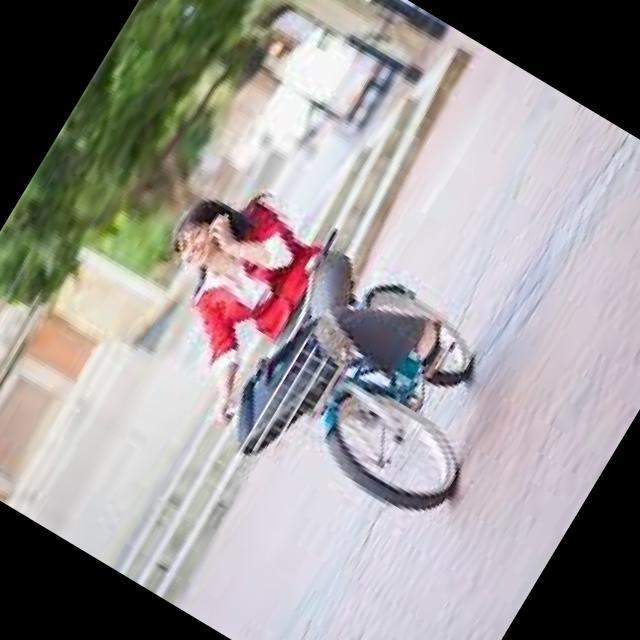USING_MOBILE: (200, 194, 308, 290)
